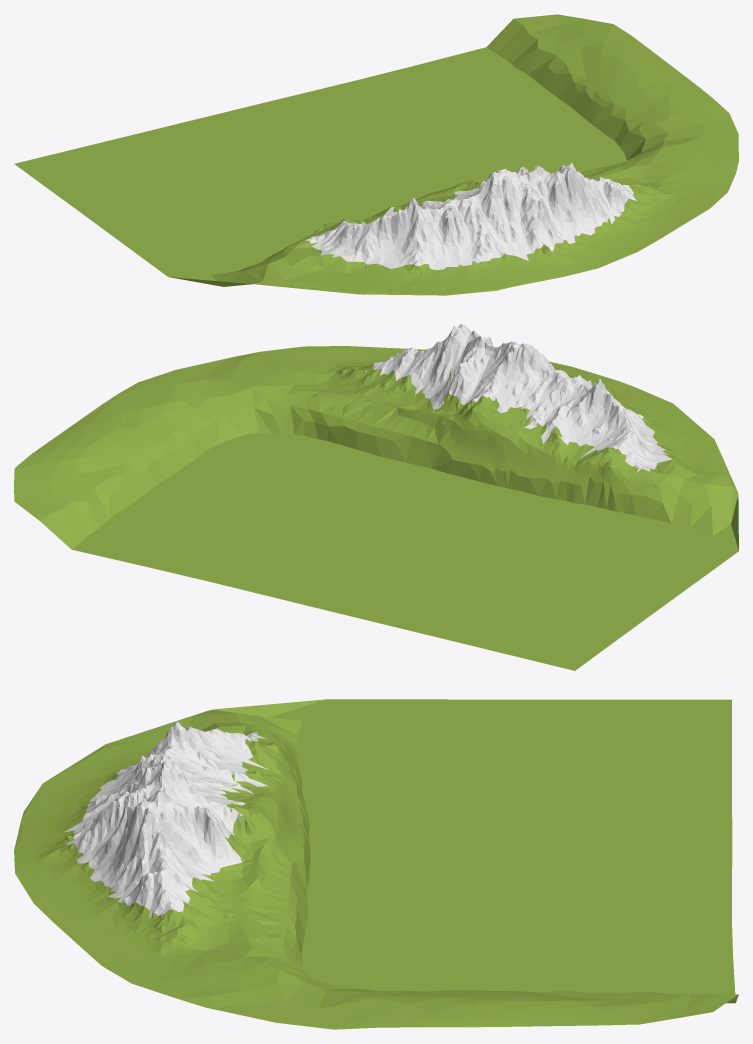
The model's file is terrain.fbx.
3 views of the same model, one above another, from view 1: azimuth 30°, elevation 25°; view 2: azimuth 150°, elevation 25°; view 3: azimuth 270°, elevation 25° (orthographic). The views are drawn at different scales.
Parts seen in each view (by area): view 1: Plane; view 2: Plane; view 3: Plane.
Boxes of the visible parts, <box> form: Plane: <box>14,14,738,295</box>; Plane: <box>14,324,738,670</box>; Plane: <box>14,699,738,1029</box>.
Bounding box in the file's own units: 10.09 × 8.51 × 1.47.
